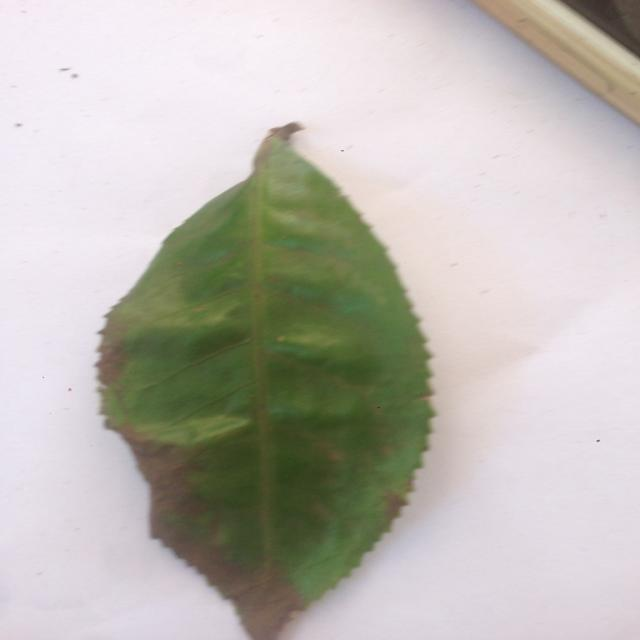Brown Blight: (92, 111, 450, 640)
